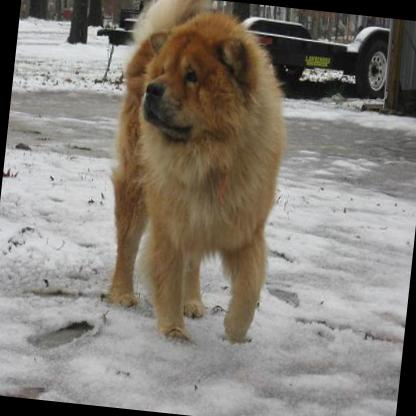chow: (95, 0, 297, 349)
